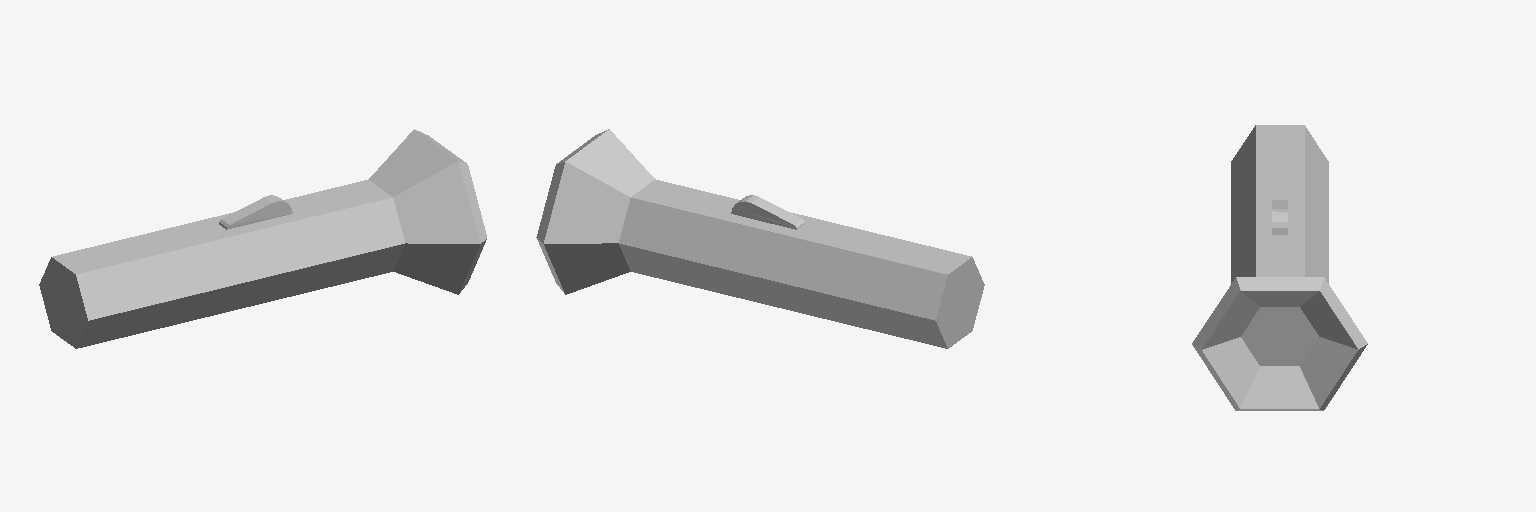
The model's file is FlashLight.obj.
The picture shows the model from 3 angles: view 1: azimuth 30°, elevation 25°; view 2: azimuth 150°, elevation 25°; view 3: azimuth 270°, elevation 25°; orthographic projection.
Parts seen in each view (by area): view 1: pCylinder1; view 2: pCylinder1; view 3: pCylinder1.
Boxes of the visible parts, x1,y1,x2,y2 form: pCylinder1: [39, 129, 486, 348]; pCylinder1: [536, 129, 984, 348]; pCylinder1: [1192, 125, 1367, 410].
Bounding box in the file's own units: 16.05 × 5.35 × 6.38.